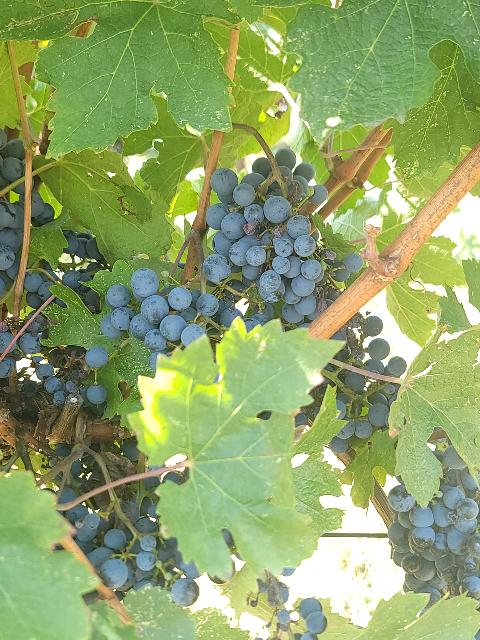grapes: (202, 149, 362, 322), (388, 439, 480, 602), (64, 501, 199, 606), (104, 269, 219, 359)
